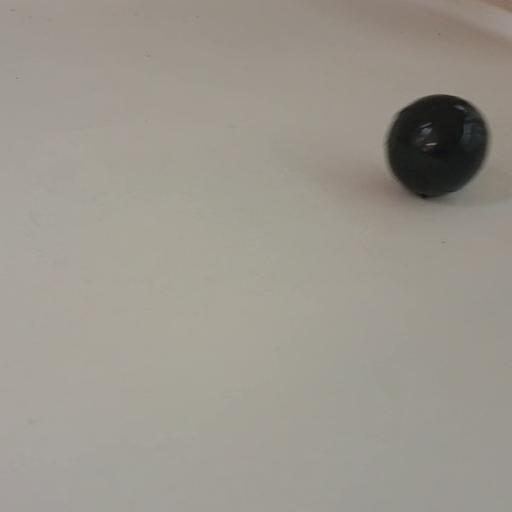dead: (384, 93, 490, 203)
